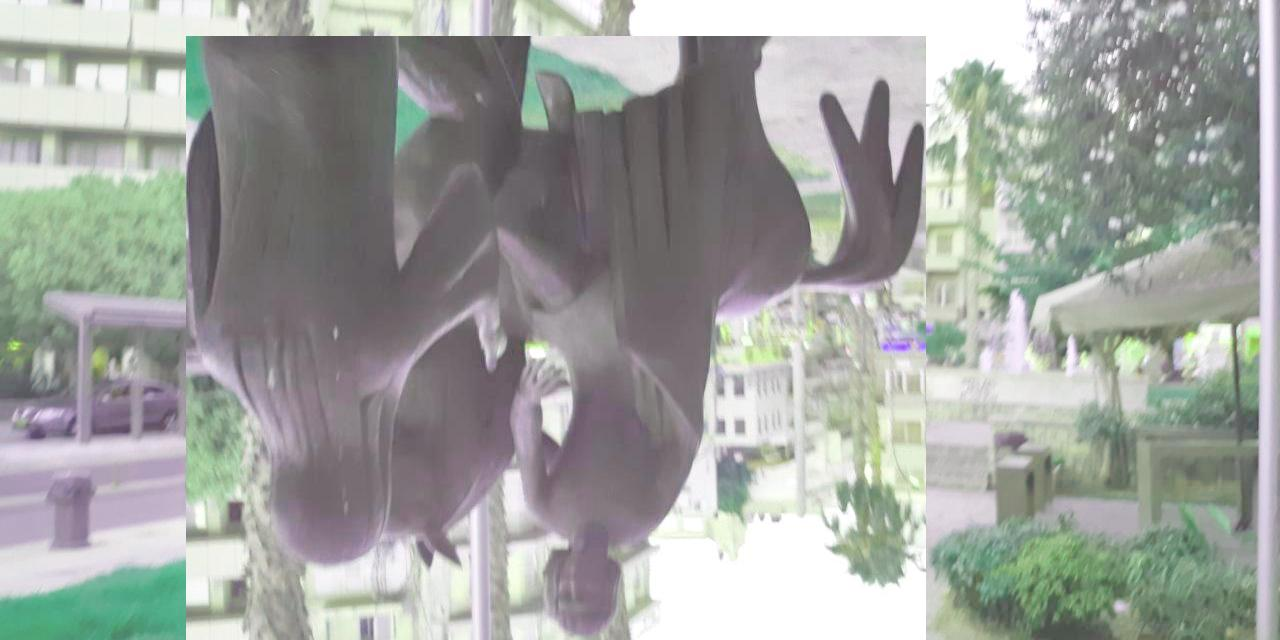Aretousa: (187, 37, 927, 640)
